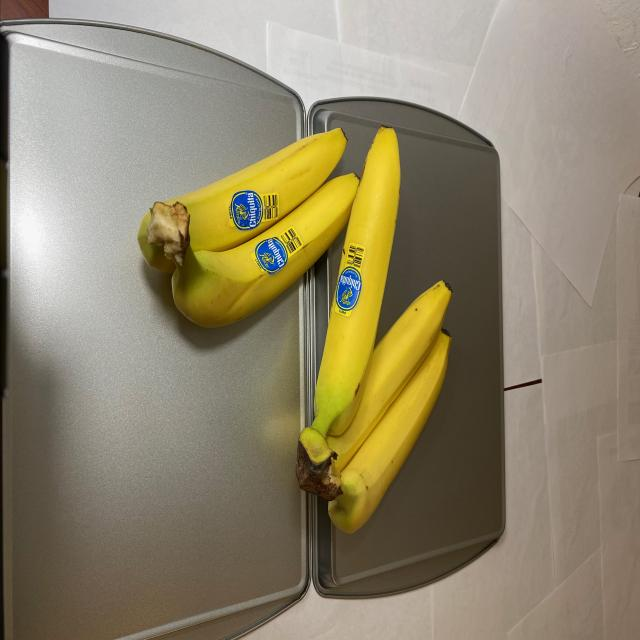banana: (138, 121, 455, 537)
